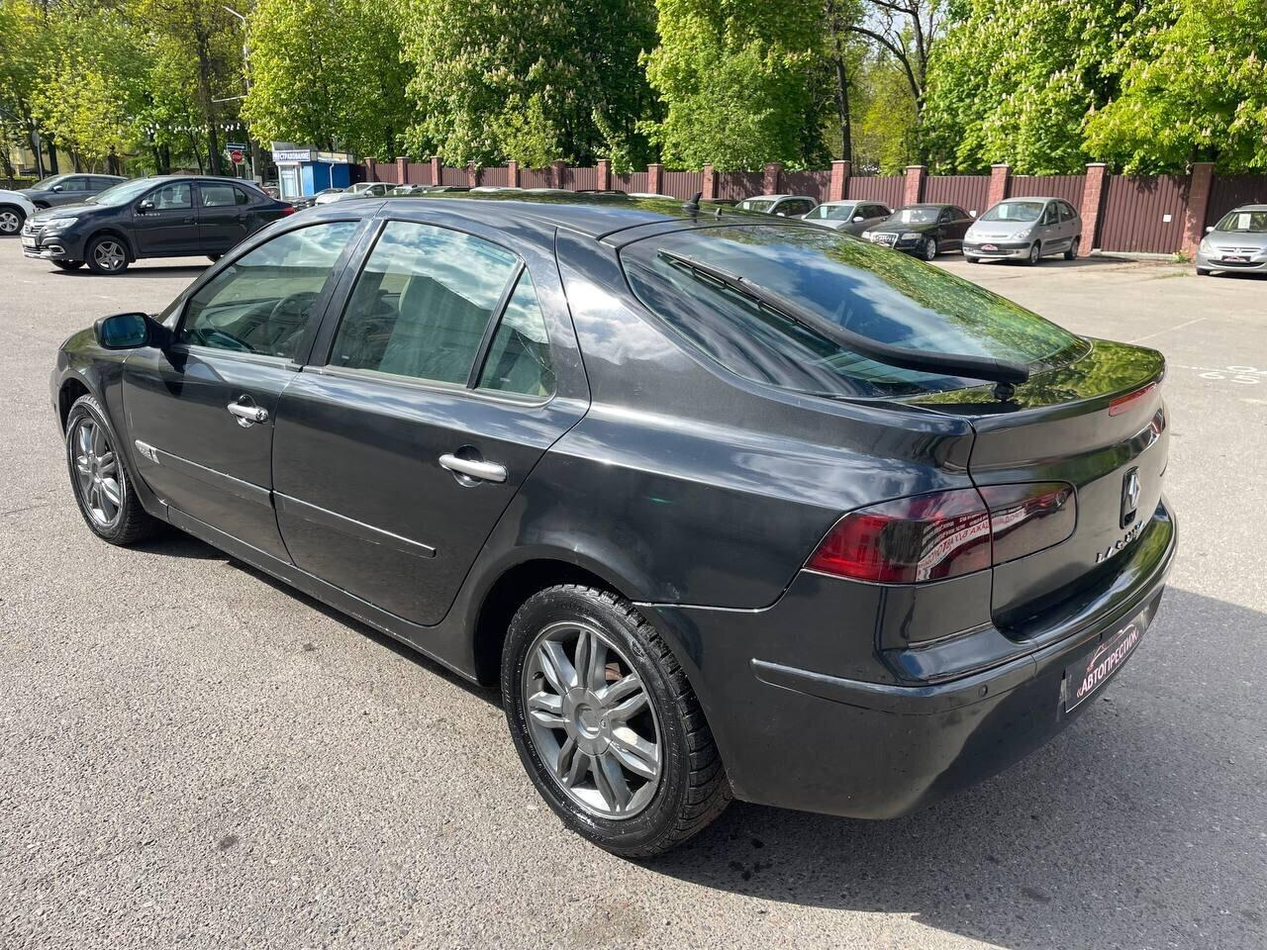Laguna_2005-2007: (46, 183, 1179, 861)
